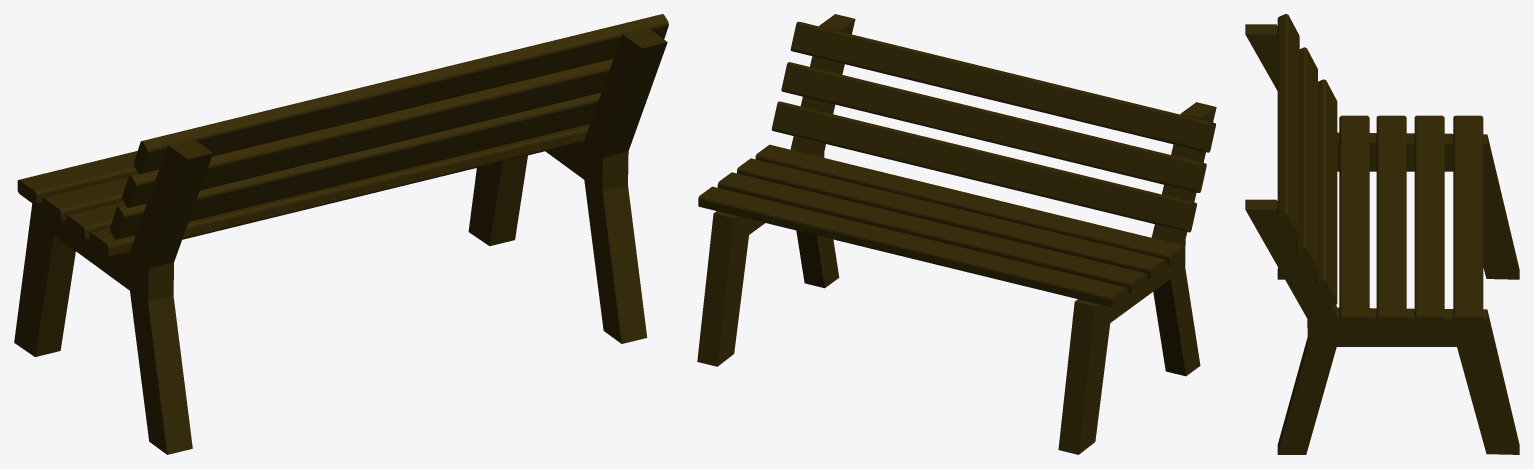
Rendered from Bench.fbx.
3 renders of one model, left to right at view 1: azimuth 30°, elevation 25°; view 2: azimuth 150°, elevation 25°; view 3: azimuth 270°, elevation 25°, orthographic. The views are drawn at different scales.
Parts seen in each view (by area): view 1: Bench; view 2: Bench; view 3: Bench.
Boxes of the visible parts, bbox=[...] form: Bench: bbox=[14, 14, 668, 454]; Bench: bbox=[697, 14, 1216, 454]; Bench: bbox=[1245, 14, 1519, 454].
Bounding box in the file's own units: 12.9 × 7.44 × 7.45.
